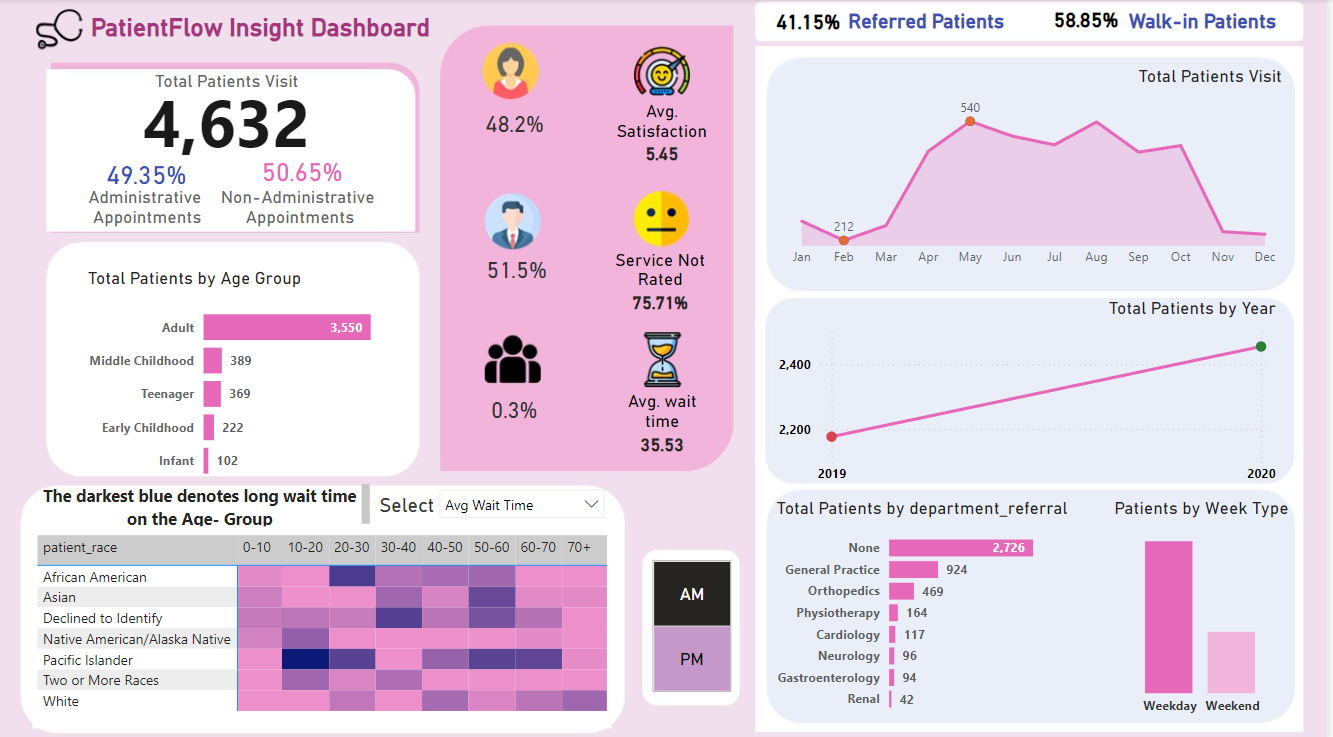

This screenshot's page, from the dashboard's own definition file:
{"tool":"powerbi","page":{"name":"Page 4","canvas":[1280,720],"ordinal":0},"visuals":[{"type":"textbox","box":[58.1,8.1,393,41.9],"z":0},{"type":"card","fields":{"Values":["Calculation.Total Patients"]},"box":[124,74.8,189.5,82.6],"z":0,"group":"g2"},{"type":"card","title":"Avg. Satisfaction","fields":{"Values":["Calculation.Average Satisfaction Score"]},"box":[575.6,97.7,126.7,65.1],"z":1000},{"type":"card","fields":{"Values":["Calculation.Administrative Schedule"]},"box":[94.3,141.8,94.2,57.5],"z":1000,"group":"g2"},{"type":"card","fields":{"Values":["Calculation.Non - Administrative Schedule"]},"box":[244.7,141.8,92.9,51.4],"z":2000,"group":"g2"},{"type":"card","title":"Service Not Rated","fields":{"Values":["Calculation.% No Rating"]},"box":[579.1,240.7,116.3,66.3],"z":2000},{"type":"textbox","box":[71.1,176,141.8,52.6],"z":3000,"group":"g2"},{"type":"card","title":"Avg. wait time","fields":{"Values":["Calculation.Avg Wait Time"]},"box":[584.9,377.9,108.1,68.6],"z":3000},{"type":"areaChart","title":"Total Patients Visit","fields":{"Category":["Date.Month"],"Y":["Calculation.Total Patients","Calculation.CF Max Point (Month)","Calculation.Values Max Point (Month)"]},"box":[752.3,64,489.5,203.5],"z":4000},{"type":"textbox","box":[203.8,176.1,171.3,51.8],"z":4000,"group":"g2"},{"type":"textbox","box":[138.9,64,160.2,52.6],"z":5000,"group":"g2"},{"type":"lineChart","fields":{"Category":["Date.Year"],"Y":["Calculation.Total Patients"]},"box":[746.5,288.4,489.5,188.4],"z":5000},{"type":"clusteredBarChart","fields":{"Y":["Calculation.Total Patients"],"Category":["Patients Dataset.department_referral"]},"box":[744.6,481.2,292.3,216.4],"z":6000},{"type":"clusteredColumnChart","title":"Patients by Week Type","fields":{"Y":["Calculation.Total Patients"],"Category":["Date.Week Type"]},"box":[1045.4,481.2,227.4,218.9],"z":7000},{"type":"clusteredBarChart","fields":{"Y":["Calculation.Total Patients"],"Category":["Patients Dataset.Age Group"]},"box":[79.5,259.2,319.2,217.7],"z":8000},{"type":"advancedSlicerVisual","title":"Moment","fields":{"Values":["Patients Dataset.Moment"]},"box":[624.4,537.2,86,137.2],"z":9000},{"type":"group","id":"g1","title":"Group 1","box":[31.4,462.9,561.5,240.4],"z":10000},{"type":"group","id":"g2","title":"Group 2","box":[71.1,64,303.5,165.1],"z":11000},{"type":"card","fields":{"Values":["Calculation.% Female Visits"]},"box":[457,90.7,79.1,60.5],"z":12000},{"type":"card","fields":{"Values":["Calculation.% Male Visits"]},"box":[457,238.4,82.6,45.3],"z":13000},{"type":"card","fields":{"Values":["Calculation.% Unknown Visits"]},"box":[465.1,377.9,61.6,37.2],"z":14000},{"type":"card","fields":{"Values":["Calculation.% Un Referred Patients"]},"box":[995.4,2.3,105.8,36],"z":15000},{"type":"pivotTable","fields":{"Values":["Calculation.Avg Wait Time"],"Rows":["Patients Dataset.patient_race"],"Columns":["Patients Dataset.Age Bucket"]},"box":[31.4,512.2,559.5,191.1],"z":15000,"group":"g1"},{"type":"card","fields":{"Values":["Calculation.% Referred Patients"]},"box":[736,3.5,88.4,38.4],"z":16000},{"type":"slicer","fields":{"Values":["Parameter.Parameter"]},"box":[413.3,462.9,179.6,50.8],"z":16000,"group":"g1"},{"type":"textbox","box":[1072.9,5.5,175.8,32.7],"z":17000},{"type":"textbox","box":[798.6,6.4,190.5,38.3],"z":18000},{"type":"textbox","box":[349.8,472.6,85.5,37.5],"z":18000,"group":"g1"},{"type":"textbox","box":[31.4,463.3,330.6,50.7],"z":18001}]}

Visuals, with their boxes in screenshot pixels (x1, y1, x2, y2), scaled from the page's 1280x720 canvas onto the 1333x737 screenshot:
textbox: region(61, 8, 470, 51)
card - Calculation.Total Patients: region(129, 77, 326, 161)
"Avg. Satisfaction" card: region(599, 100, 731, 167)
card - Calculation.Administrative Schedule: region(98, 145, 196, 204)
card - Calculation.Non - Administrative Schedule: region(255, 145, 352, 198)
"Service Not Rated" card: region(603, 246, 724, 314)
textbox: region(74, 180, 222, 234)
"Avg. wait time" card: region(609, 387, 722, 457)
"Total Patients Visit" areaChart: region(783, 66, 1293, 274)
textbox: region(212, 180, 391, 233)
textbox: region(145, 66, 311, 119)
lineChart - Date.Year x Calculation.Total Patients: region(777, 295, 1287, 488)
clusteredBarChart - Calculation.Total Patients x Patients Dataset.department_referral: region(775, 493, 1080, 714)
"Patients by Week Type" clusteredColumnChart: region(1089, 493, 1326, 717)
clusteredBarChart - Calculation.Total Patients x Patients Dataset.Age Group: region(83, 265, 415, 488)
"Moment" advancedSlicerVisual: region(650, 550, 740, 690)
"Group 1" group: region(33, 474, 617, 720)
"Group 2" group: region(74, 66, 390, 235)
card - Calculation.% Female Visits: region(476, 93, 558, 155)
card - Calculation.% Male Visits: region(476, 244, 562, 290)
card - Calculation.% Unknown Visits: region(484, 387, 549, 425)
card - Calculation.% Un Referred Patients: region(1037, 2, 1147, 39)
pivotTable - Calculation.Avg Wait Time x Patients Dataset.patient_race: region(33, 524, 615, 720)
card - Calculation.% Referred Patients: region(766, 4, 859, 43)
slicer - Parameter.Parameter: region(430, 474, 617, 526)
textbox: region(1117, 6, 1300, 39)
textbox: region(832, 7, 1030, 46)
textbox: region(364, 484, 453, 522)
textbox: region(33, 474, 377, 526)
